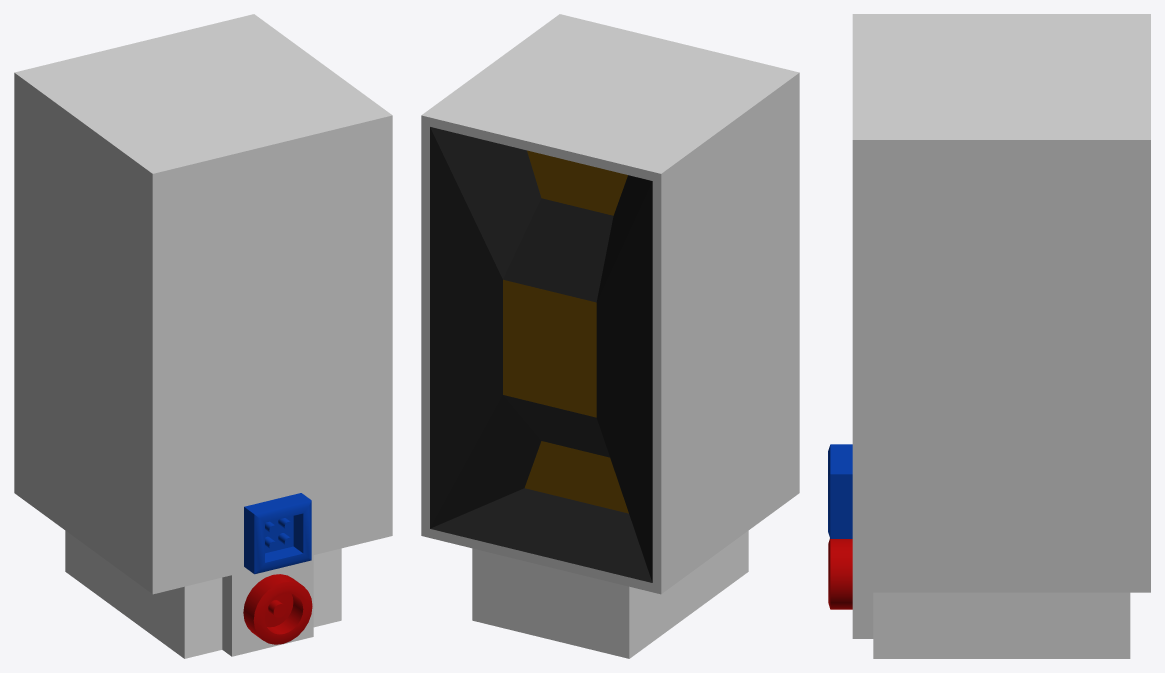
The model's file is TerrainScanner.gltf.
3 views of the same model, side by side, from view 1: azimuth 30°, elevation 25°; view 2: azimuth 150°, elevation 25°; view 3: azimuth 270°, elevation 25° (orthographic). The views are drawn at different scales.
Visible parts, largest first — view 1: scanner; view 2: scanner; view 3: scanner.
Part boxes in pixels (box(x1,y1,x2,y2)): scanner: box(14, 14, 392, 658); scanner: box(421, 14, 799, 658); scanner: box(828, 14, 1150, 658).
Size of the model in its own units: 0.25 by 0.5 by 0.2706.
